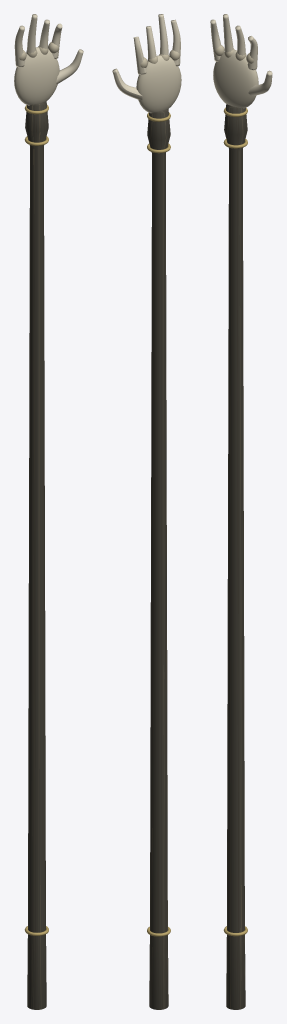
Rendered from props_p6__p6_staff.glb.
The picture shows the model from 3 angles, left to right: view 1: azimuth 30°, elevation 25°; view 2: azimuth 210°, elevation 25°; view 3: azimuth 330°, elevation 25°; orthographic projection.
Visible parts, largest first — view 1: ebony_staff, carved_palm, reference_static_surfaces (×3), thumb; view 2: ebony_staff, carved_palm, reference_static_surfaces (×3), thumb; view 3: ebony_staff, carved_palm, reference_static_surfaces (×3), thumb.
Boxes of the visible parts, <box> form: ebony_staff: <box>25,101,48,1009</box>; carved_palm: <box>14,47,59,105</box>; reference_static_surfaces (×3): <box>14,14,62,935</box>; thumb: <box>56,49,83,84</box>; ebony_staff: <box>147,109,170,1009</box>; carved_palm: <box>136,55,181,113</box>; reference_static_surfaces (×3): <box>133,14,180,936</box>; thumb: <box>112,68,142,99</box>; ebony_staff: <box>224,104,247,1009</box>; carved_palm: <box>213,50,258,108</box>; reference_static_surfaces (×3): <box>210,14,257,936</box>; thumb: <box>248,70,272,95</box>.
Bounding box in the file's own units: 0.1119 × 1.66 × 0.0382.
Materials: 6 (1 with a texture image).
